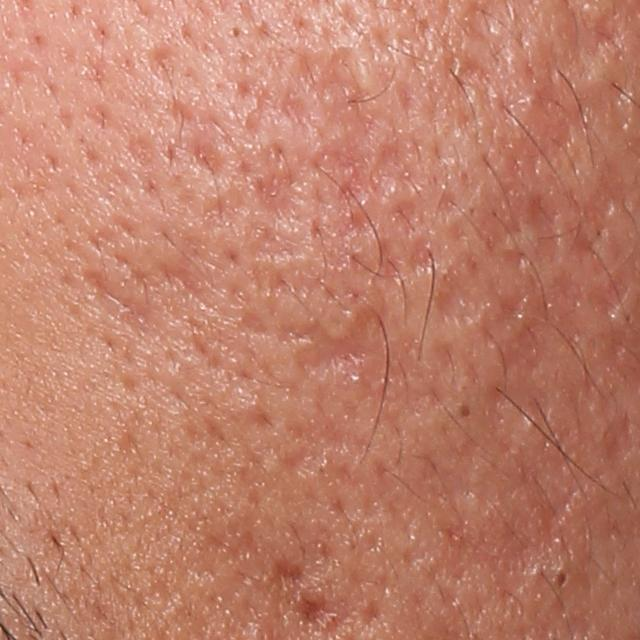atrophic_scar: (482, 83, 639, 244), (427, 471, 604, 599), (275, 307, 459, 414), (110, 252, 270, 336), (311, 44, 377, 206), (73, 260, 173, 334), (542, 3, 627, 83), (239, 260, 363, 307), (432, 240, 487, 326), (267, 539, 329, 594), (367, 140, 419, 201), (251, 142, 295, 214), (349, 235, 406, 290), (437, 47, 491, 95), (290, 592, 345, 638), (198, 184, 249, 232), (525, 198, 560, 267), (387, 192, 433, 242), (586, 274, 633, 318), (500, 324, 543, 372), (600, 410, 634, 469), (145, 44, 182, 87), (186, 137, 224, 177), (407, 234, 442, 274), (353, 596, 387, 627), (494, 289, 521, 325)
comedo: (547, 563, 577, 593), (453, 396, 480, 423)
